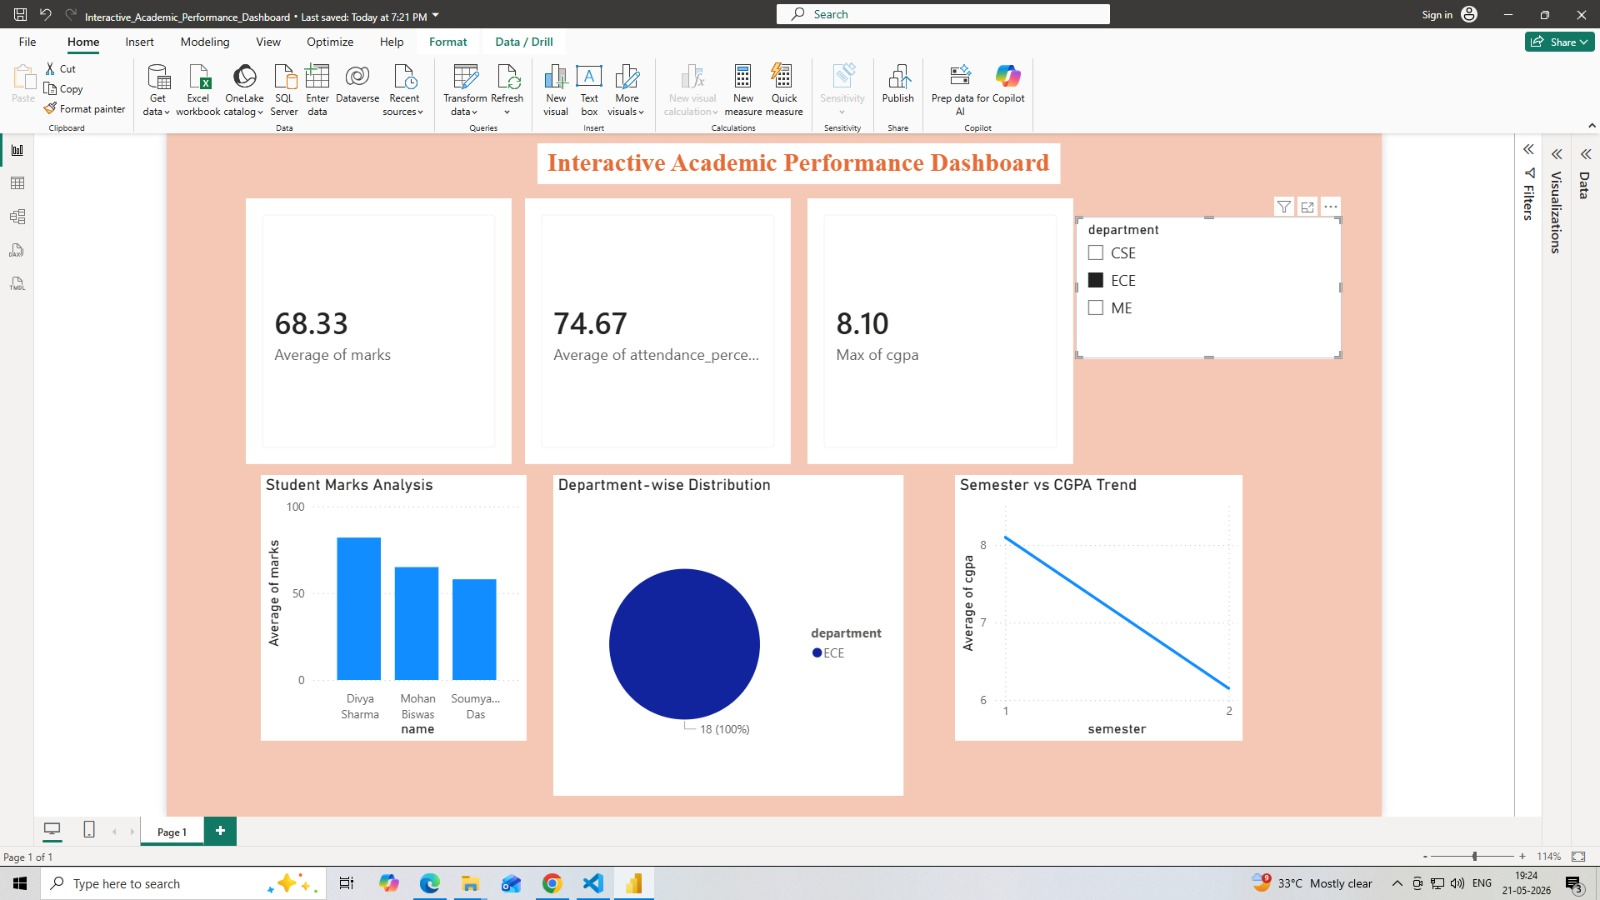

Layout of this report page (visuals, bound fields, positions):
{"tool":"powerbi","page":{"name":"Page 1","canvas":[1280,720],"ordinal":0},"visuals":[{"type":"cardVisual","fields":{"Data":["Avg(students.marks)"]},"box":[83.6,68.1,280.1,280.1],"z":0},{"type":"cardVisual","fields":{"Data":["Avg(students.attendance_percentage)"]},"box":[377.4,68.1,280.1,280.1],"z":1000},{"type":"cardVisual","fields":{"Data":["Max(students.cgpa)"]},"box":[675,68.1,280.1,280.1],"z":1001},{"type":"clusteredColumnChart","title":"Student Marks Analysis","fields":{"Category":["students.name"],"Y":["Avg(students.marks)"]},"box":[99.2,360,280,280],"z":1002},{"type":"pieChart","title":"Department-wise Distribution","fields":{"Category":["students.department"],"Y":["Sum(students.student_id)"]},"box":[407.5,359.9,368.6,337.5],"z":1003},{"type":"lineChart","title":"Semester vs CGPA Trend","fields":{"Category":["students.semester"],"Y":["Avg(students.cgpa)"]},"box":[830.6,359.9,303.5,280.1],"z":1004},{"type":"slicer","fields":{"Values":["students.department"]},"box":[958.1,87.5,280.1,149.8],"z":1005},{"type":"textbox","box":[391,10.7,550.5,42.8],"z":1006}]}

Visuals, with their boxes on the page's 1280x720 design canvas (x1, y1, x2, y2). These are canvas units, not pixel positions in the 1600x900 screenshot, which may show the page scaled, cropped or inside an application window:
cardVisual - Avg(students.marks): [x1=84, y1=68, x2=364, y2=348]
cardVisual - Avg(students.attendance_percentage): [x1=377, y1=68, x2=658, y2=348]
cardVisual - Max(students.cgpa): [x1=675, y1=68, x2=955, y2=348]
"Student Marks Analysis" clusteredColumnChart: [x1=99, y1=360, x2=379, y2=640]
"Department-wise Distribution" pieChart: [x1=408, y1=360, x2=776, y2=697]
"Semester vs CGPA Trend" lineChart: [x1=831, y1=360, x2=1134, y2=640]
slicer - students.department: [x1=958, y1=88, x2=1238, y2=237]
textbox: [x1=391, y1=11, x2=942, y2=54]
